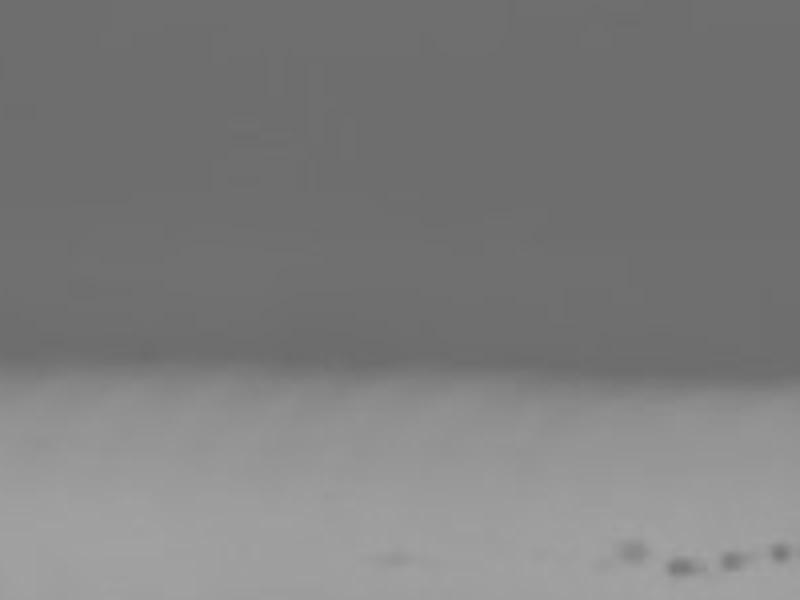defect: (374, 547, 419, 569), (617, 540, 648, 567), (666, 556, 699, 578), (771, 539, 792, 567), (719, 551, 747, 571)
